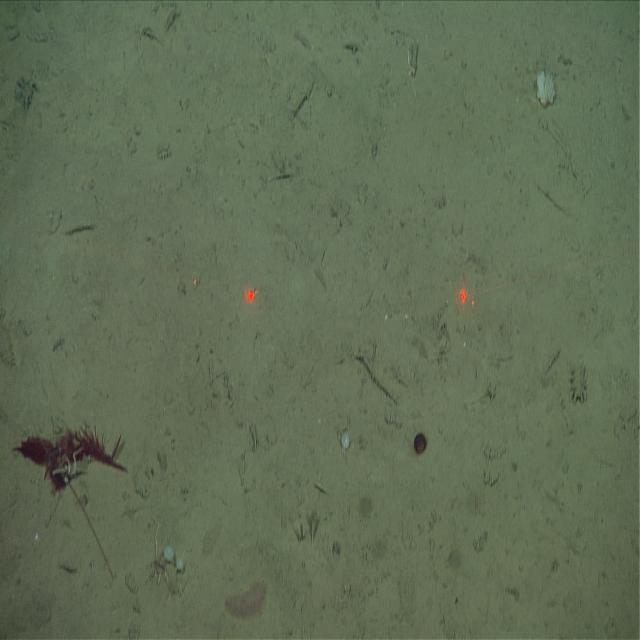Brittle Star: (148, 514, 170, 592), (402, 39, 420, 98)
Not Brittle Star: (221, 569, 269, 629), (567, 353, 590, 406), (535, 69, 557, 112), (411, 430, 430, 459), (156, 134, 172, 164), (339, 428, 352, 453), (162, 542, 175, 564), (174, 552, 185, 574)
